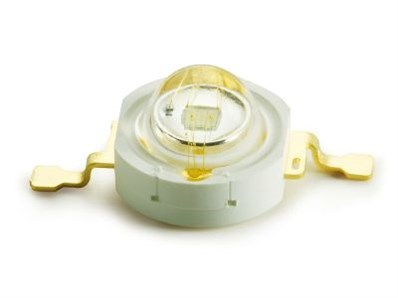copdegil: (19, 41, 388, 235)
